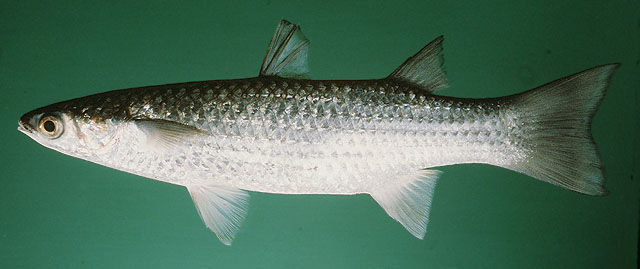fish: (16, 18, 623, 247)
